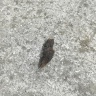Dog: (39, 38, 55, 64)
